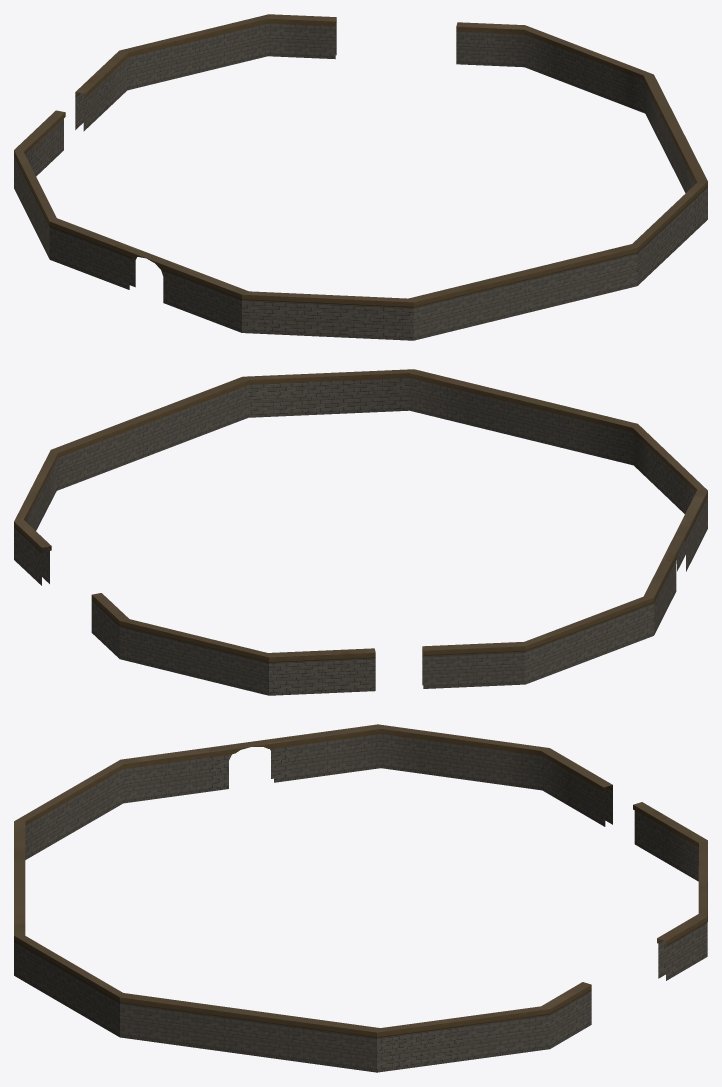
Rendered from Time limit_Wall_01.FBX.
3 renders of one model, top to bottom at view 1: azimuth 30°, elevation 25°; view 2: azimuth 150°, elevation 25°; view 3: azimuth 270°, elevation 25°, orthographic. The views are drawn at different scales.
Parts seen in each view (by area): view 1: Time limit_Wall_01; view 2: Time limit_Wall_01; view 3: Time limit_Wall_01.
Boxes of the visible parts, x1,y1,x2,y2 form: Time limit_Wall_01: [14, 14, 707, 340]; Time limit_Wall_01: [14, 369, 707, 695]; Time limit_Wall_01: [14, 724, 707, 1072].
Bounding box in the file's own units: 153 × 9.26 × 145.
